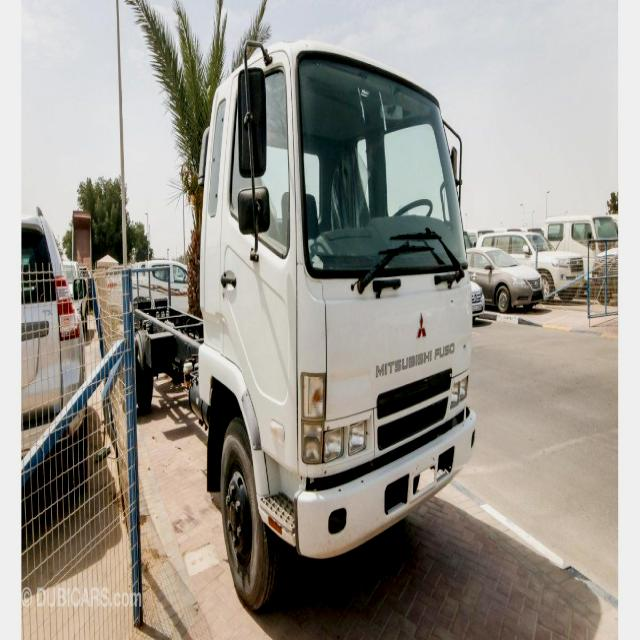truck: (134, 33, 477, 609)
